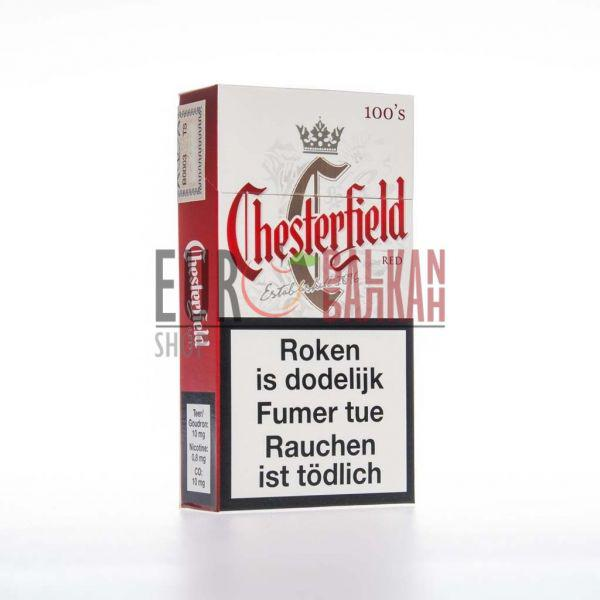chesterfield_red: (217, 94, 408, 501)
